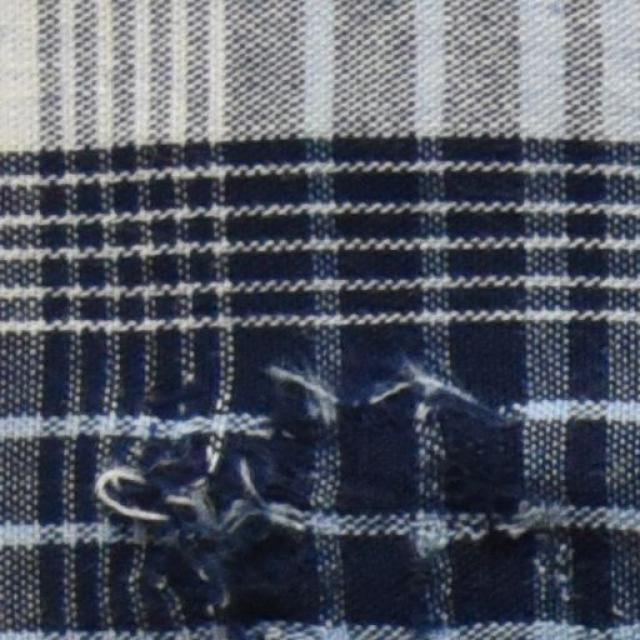Snag: (90, 343, 524, 630)
